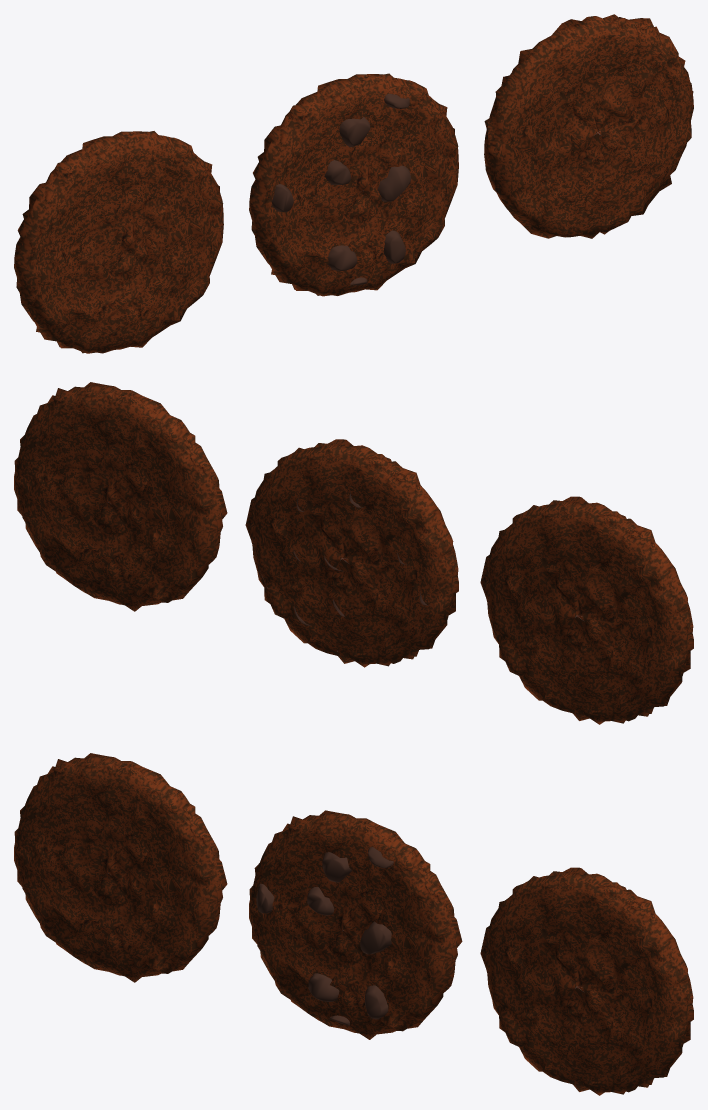
Rendered from product-4.glb.
3 renders of one model, top to bottom at view 1: azimuth 30°, elevation 25°; view 2: azimuth 150°, elevation 25°; view 3: azimuth 330°, elevation 25°, orthographic.
Visible parts, largest first — view 1: Cookie_1, Cookie, Cookie_2, Chocolate_01; view 2: Cookie, Cookie_2, Cookie_1; view 3: Cookie_1, Cookie, Cookie_2, Chocolate_01.
Boxes of the visible parts, x1=… form: Cookie_1: x1=484, y1=14, x2=693, y2=238; Cookie: x1=14, y1=131, x2=223, y2=353; Cookie_2: x1=249, y1=73, x2=458, y2=296; Chocolate_01: x1=272, y1=93, x2=411, y2=285; Cookie: x1=480, y1=496, x2=693, y2=724; Cookie_2: x1=245, y1=439, x2=458, y2=667; Cookie_1: x1=14, y1=382, x2=227, y2=611; Cookie_1: x1=480, y1=867, x2=693, y2=1095; Cookie: x1=14, y1=753, x2=227, y2=982; Cookie_2: x1=249, y1=810, x2=462, y2=1039; Chocolate_01: x1=256, y1=847, x2=393, y2=1025.
Bounding box in the file's own units: 11.56 × 3.52 × 0.77.
Materials: 3 (1 with a texture image).
